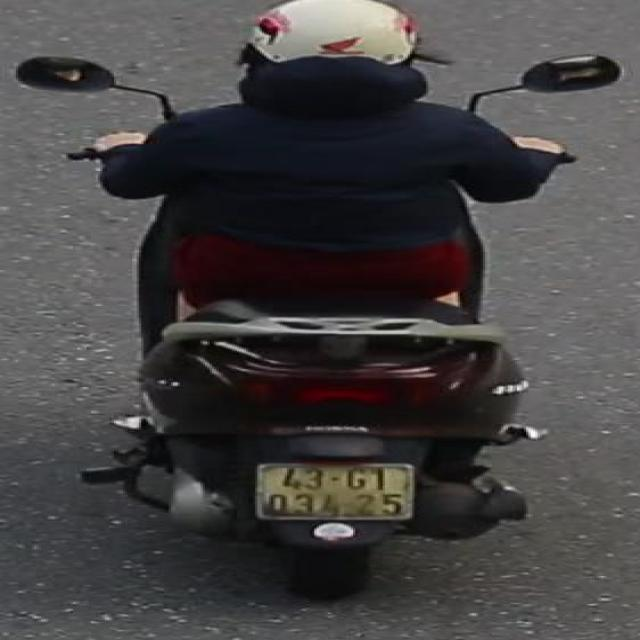LP: (253, 460, 417, 528)
helmet: (239, 0, 440, 116)
